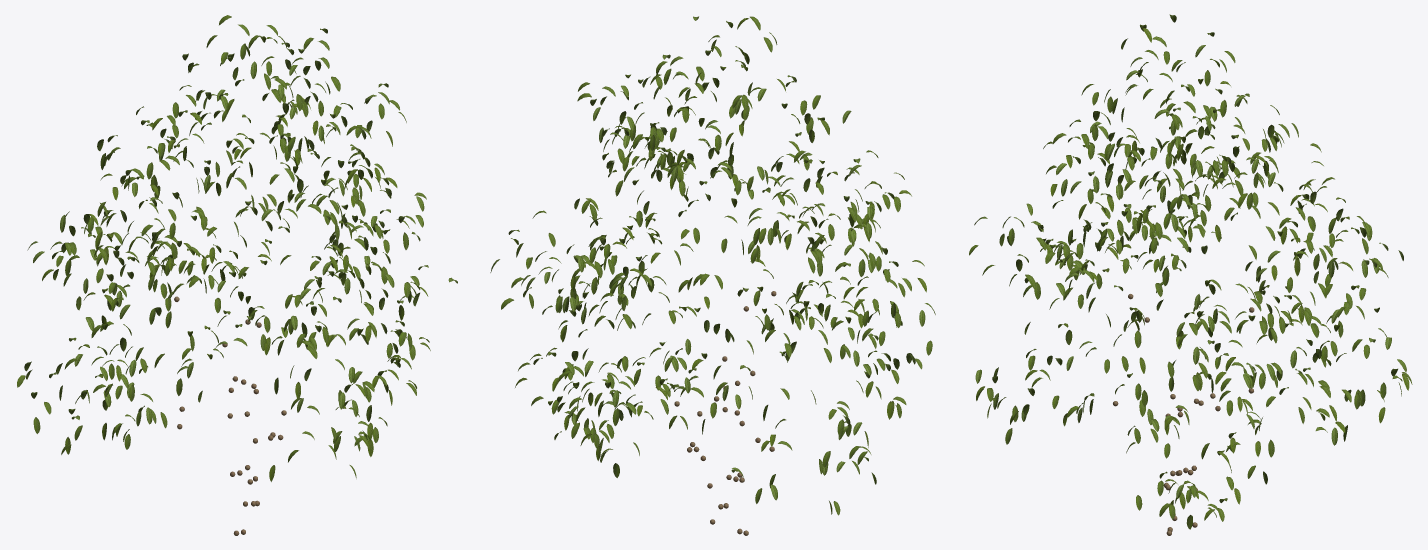
The model's file is SM_StelechocarpusBurahol_A_LOD2.fbx.
The picture shows the model from 3 angles, left to right: view 1: azimuth 30°, elevation 25°; view 2: azimuth 150°, elevation 25°; view 3: azimuth 270°, elevation 25°; orthographic projection.
Visible parts, largest first — view 1: MI_LOD2_003, MI_LOD2_001, MI_LOD2_002, MI_LOD2_004; view 2: MI_LOD2_003, MI_LOD2_001, MI_LOD2_002, MI_LOD2_004; view 3: MI_LOD2_003, MI_LOD2_001, MI_LOD2_002, MI_LOD2_004.
Boxes of the visible parts, x1=… form: MI_LOD2_003: x1=17, y1=15, x2=430, y2=478; MI_LOD2_001: x1=26, y1=24, x2=457, y2=459; MI_LOD2_002: x1=42, y1=36, x2=428, y2=481; MI_LOD2_004: x1=174, y1=296, x2=286, y2=535; MI_LOD2_003: x1=501, y1=16, x2=932, y2=515; MI_LOD2_001: x1=490, y1=16, x2=935, y2=500; MI_LOD2_002: x1=511, y1=18, x2=926, y2=514; MI_LOD2_004: x1=674, y1=291, x2=776, y2=535; MI_LOD2_003: x1=969, y1=14, x2=1412, y2=529; MI_LOD2_001: x1=974, y1=36, x2=1406, y2=503; MI_LOD2_002: x1=976, y1=28, x2=1409, y2=520; MI_LOD2_004: x1=1113, y1=294, x2=1254, y2=535.
Size of what is drawn, in the model's own units: 667 by 799 by 632.
